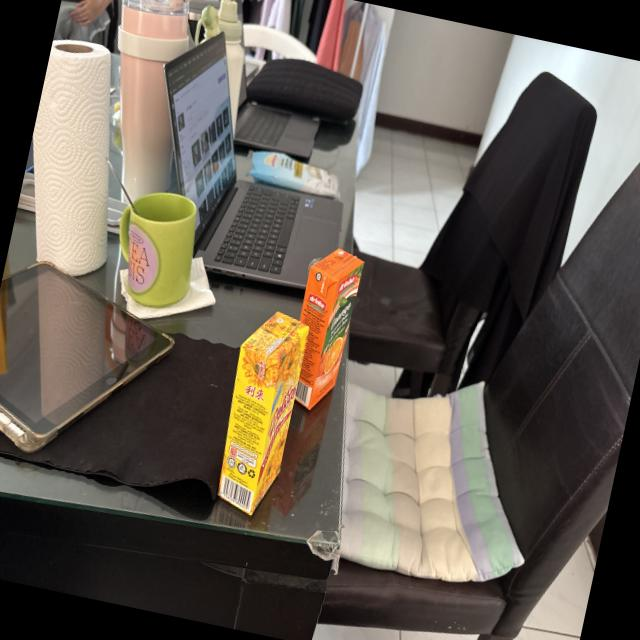drink_carton: (197, 294, 324, 530), (274, 233, 373, 421)
